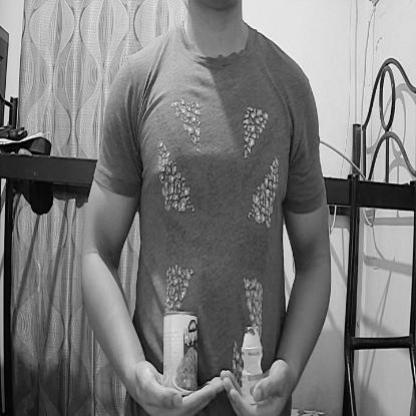Can: (164, 310, 197, 398)
Others: (242, 326, 264, 404)
